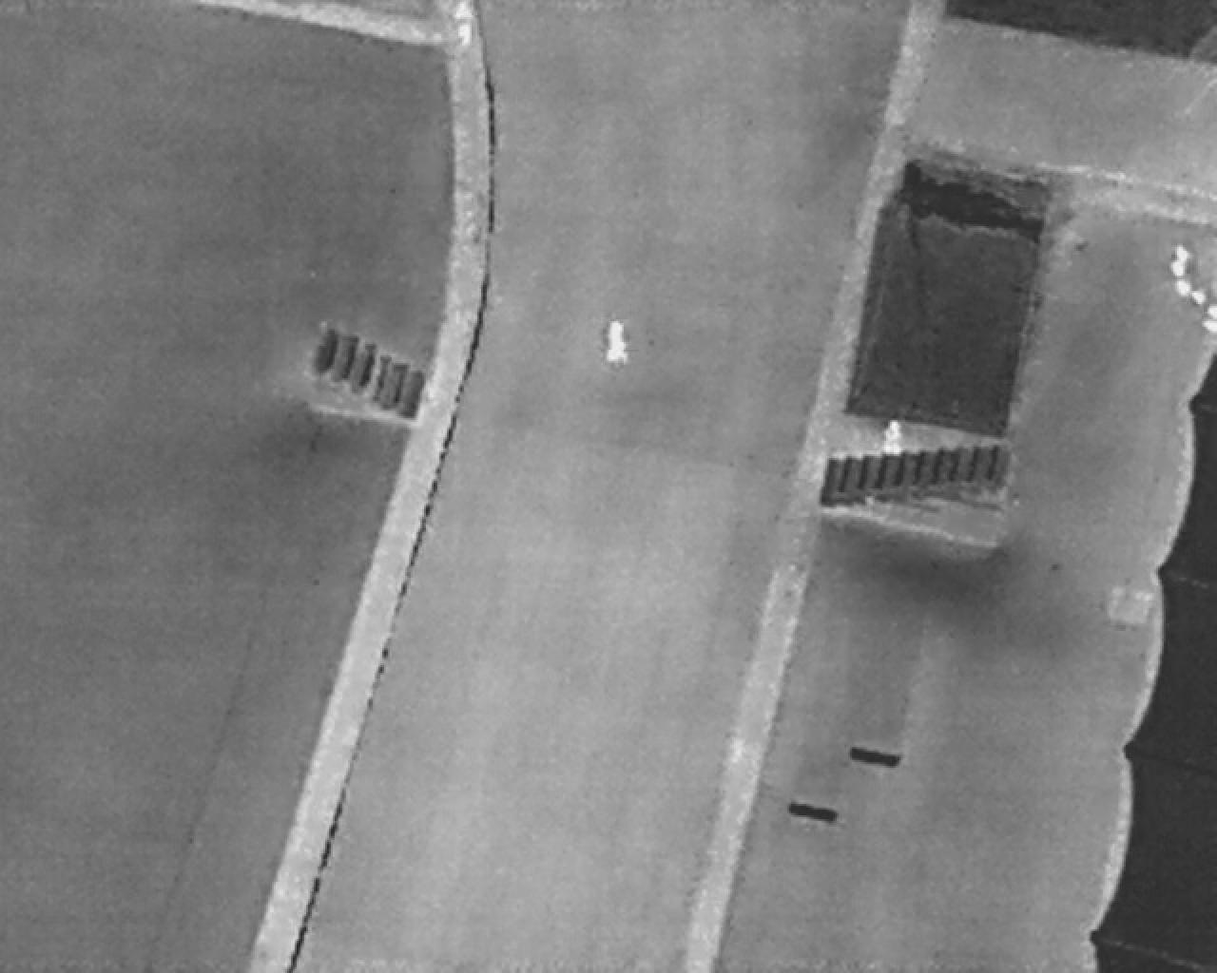person: (455, 1, 480, 45), (608, 318, 628, 368), (887, 417, 904, 455)
